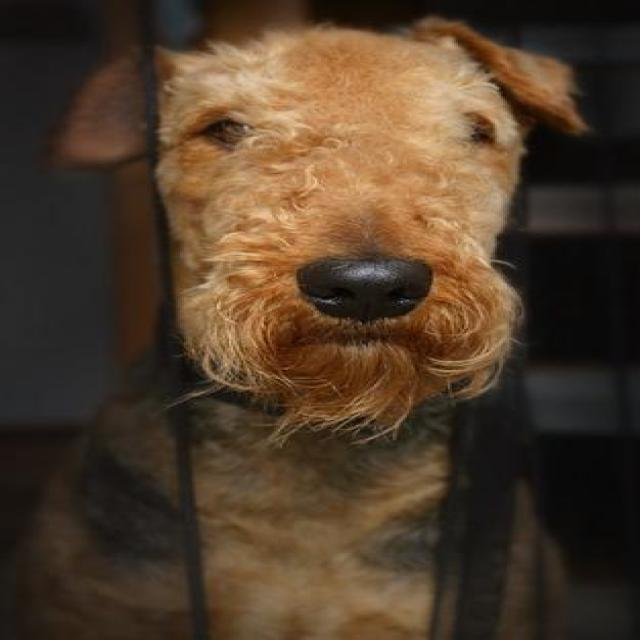airedale: (20, 20, 587, 638)
